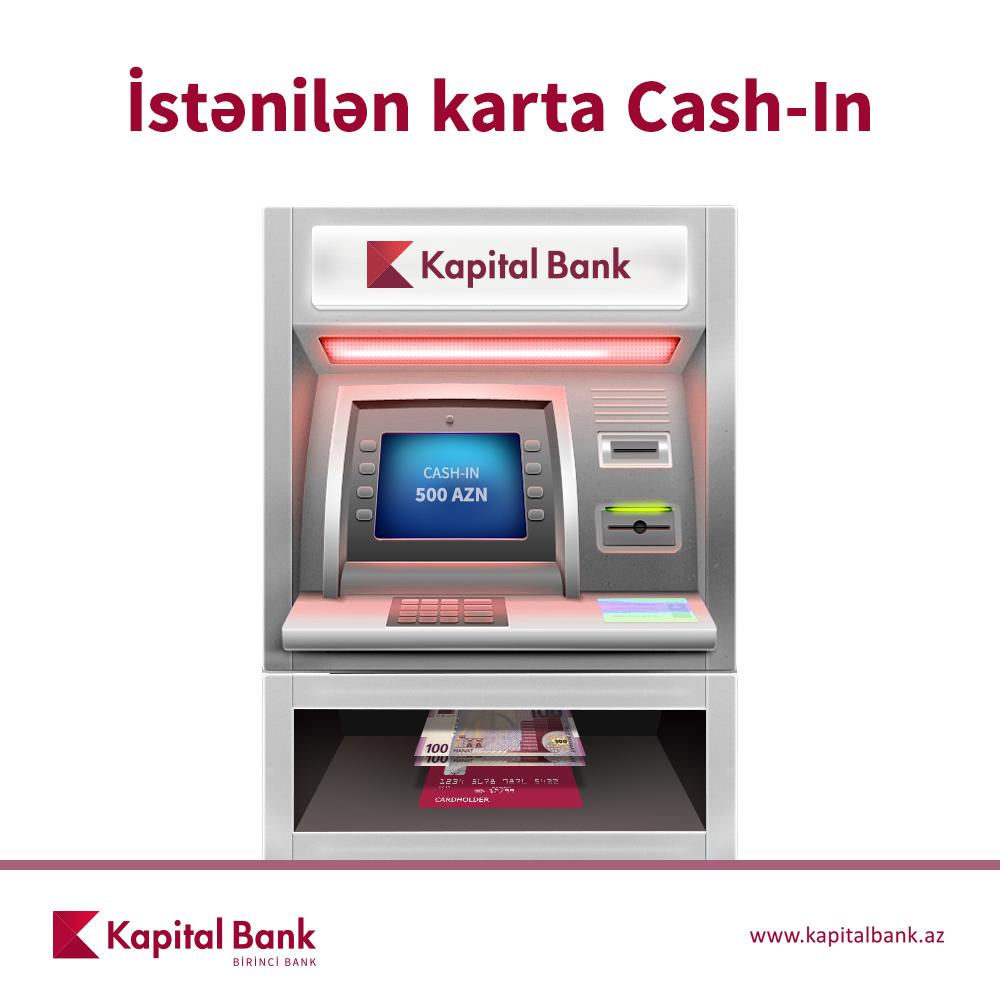Kapital Bank: (365, 239, 416, 290), (51, 909, 100, 961)
